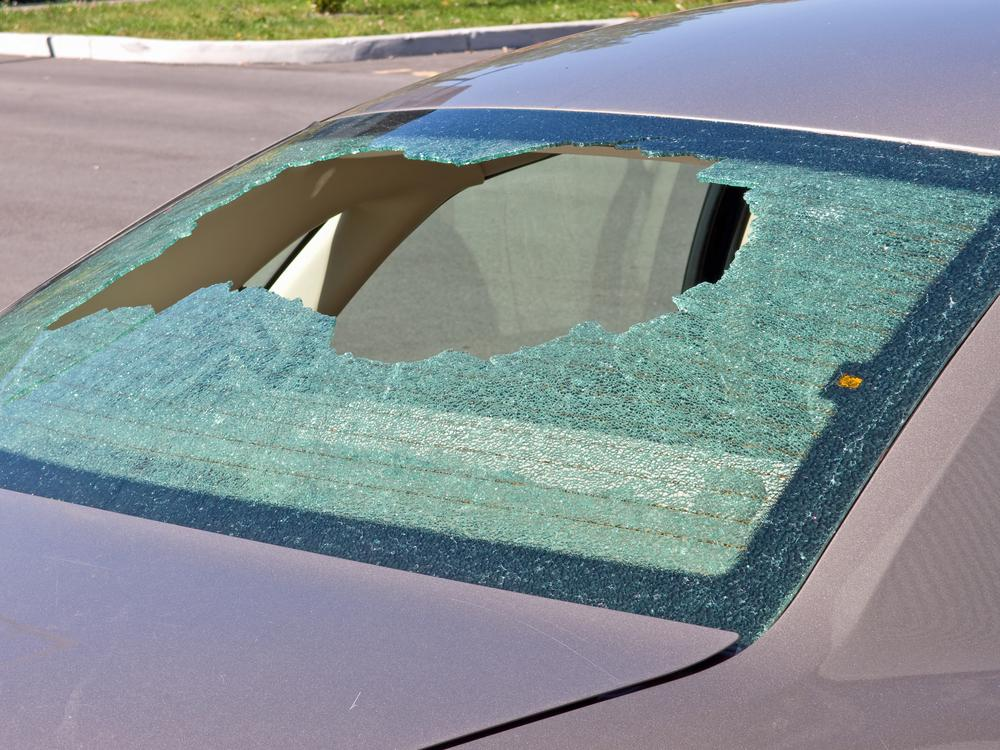glass shatter: (0, 109, 1000, 636)
